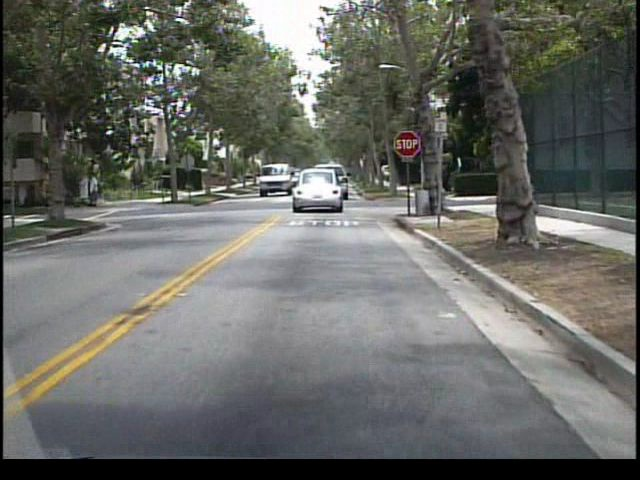person: (73, 166, 86, 210), (92, 166, 104, 209)
